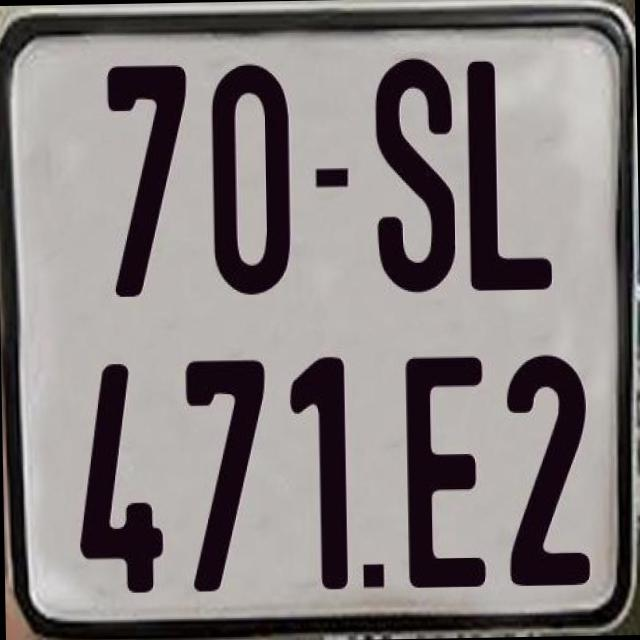0: (207, 58, 297, 298)
1: (286, 356, 346, 590)
2: (502, 350, 588, 592)
4: (73, 363, 165, 598)
7: (103, 60, 193, 300), (180, 356, 268, 588)
E: (400, 354, 486, 586)
L: (464, 59, 550, 300)
S: (374, 55, 461, 294)
